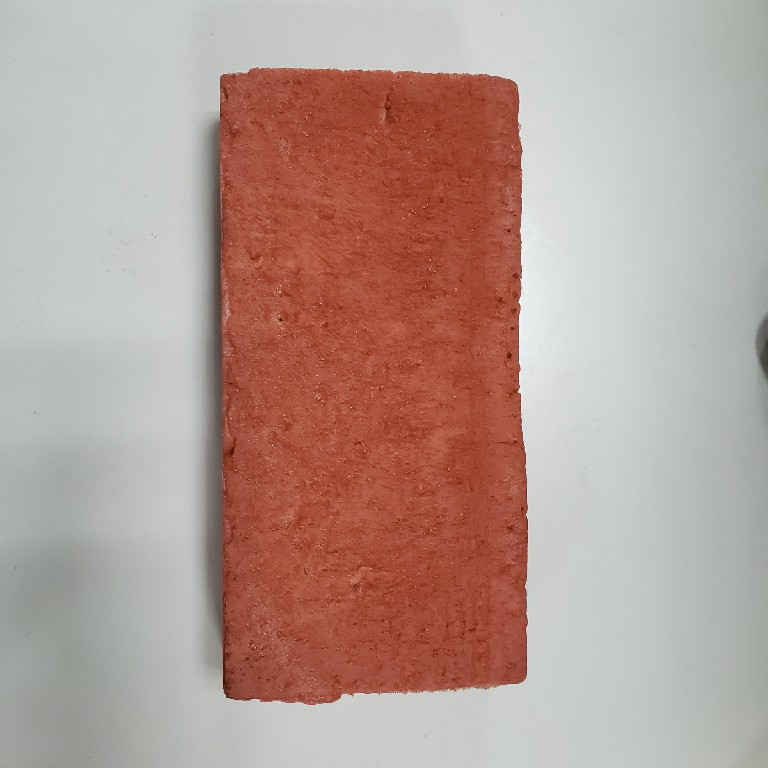brick: (200, 52, 545, 721)
